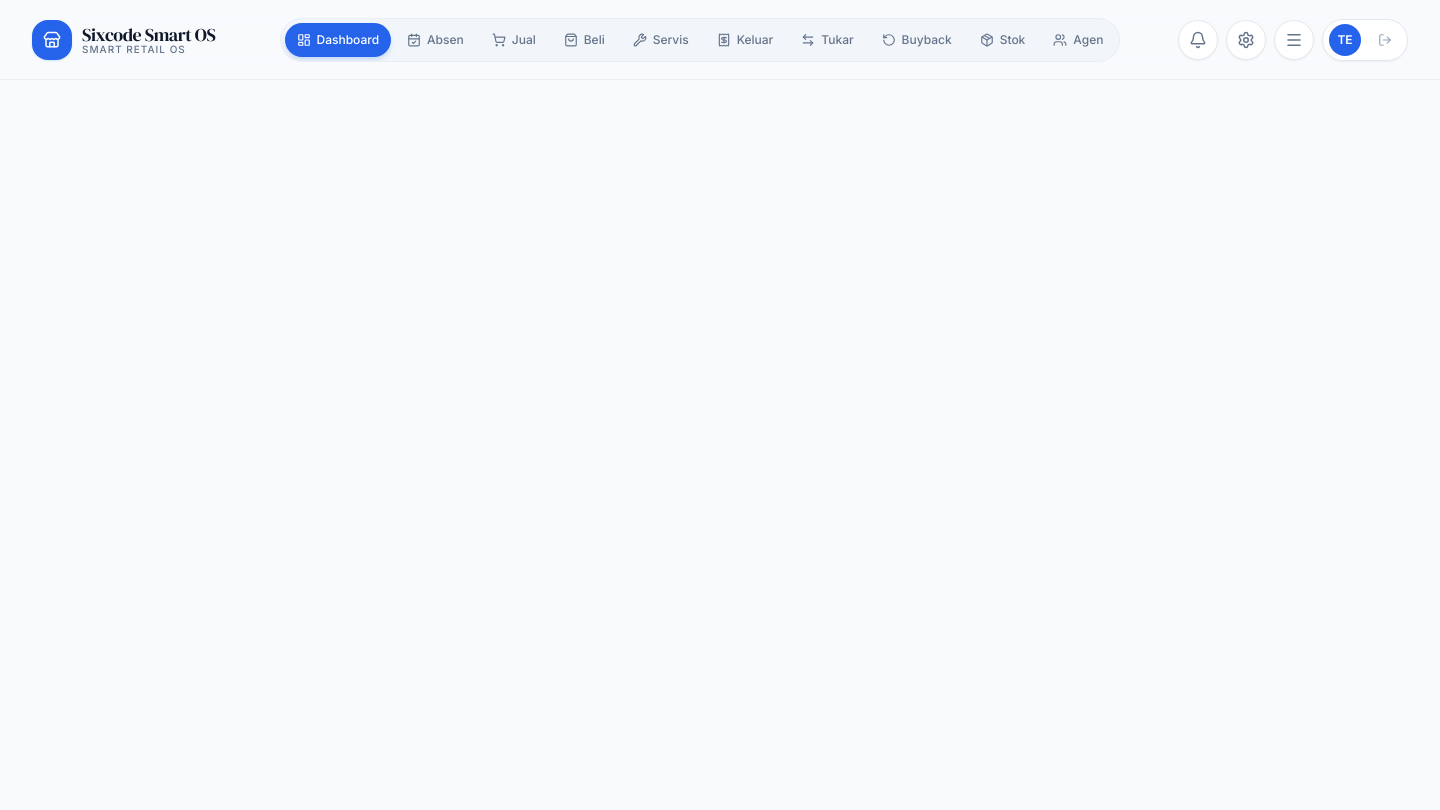
Scenario: Navbar finance-section access filtering › Boss sees the finance section and finance entries
Step 1. Click the button named "Menu cepat" → (1294, 40), box [1274,20,1314,60]
(page scrolled)
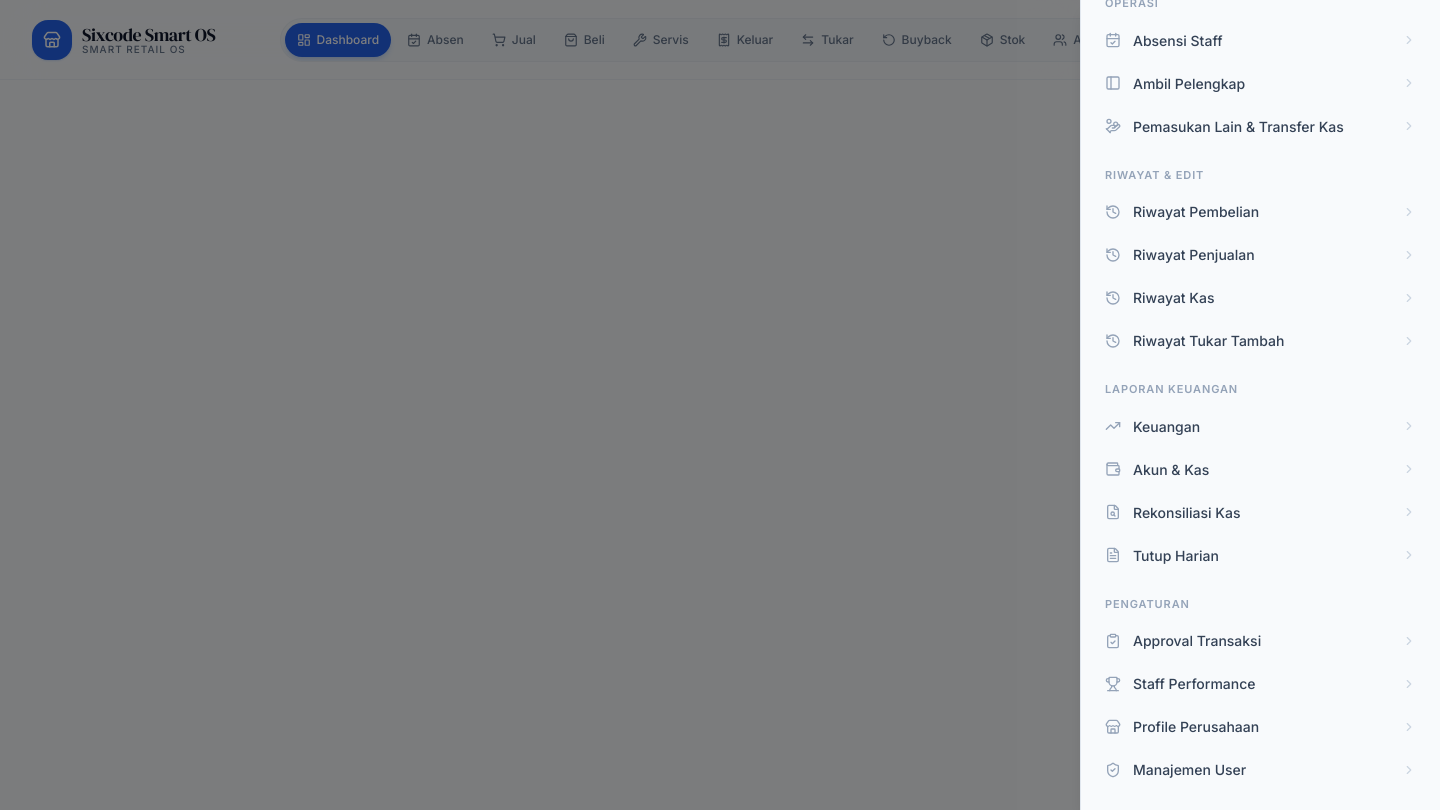
Expected: the dialog is shown, [1080,0,1439,809]
Expected: the heading "Laporan Keuangan" is shown, [1105,382,1238,396]
Expected: the text "Akun & Kas" is shown, [1133,460,1209,478]
